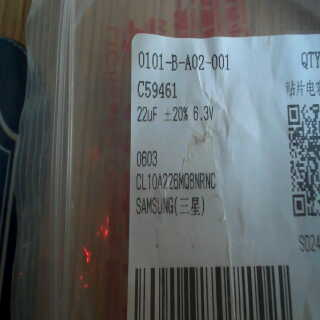22uF: (134, 104, 161, 123)
